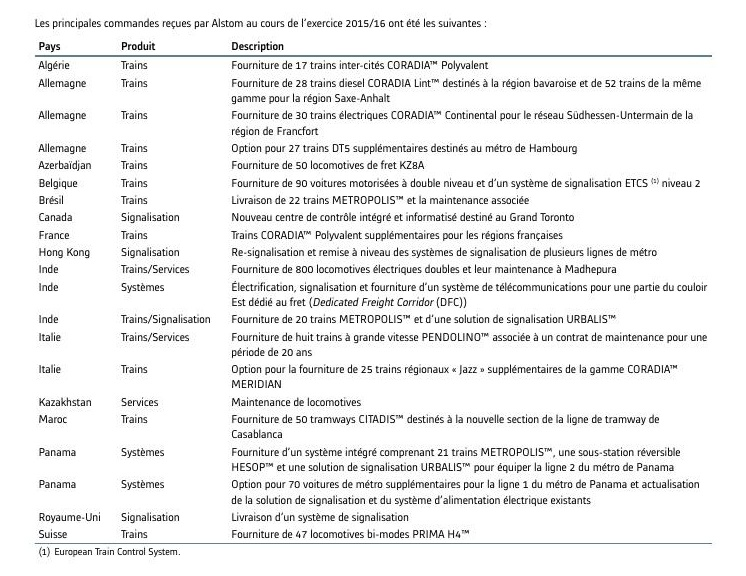table: (0, 0, 746, 576)
